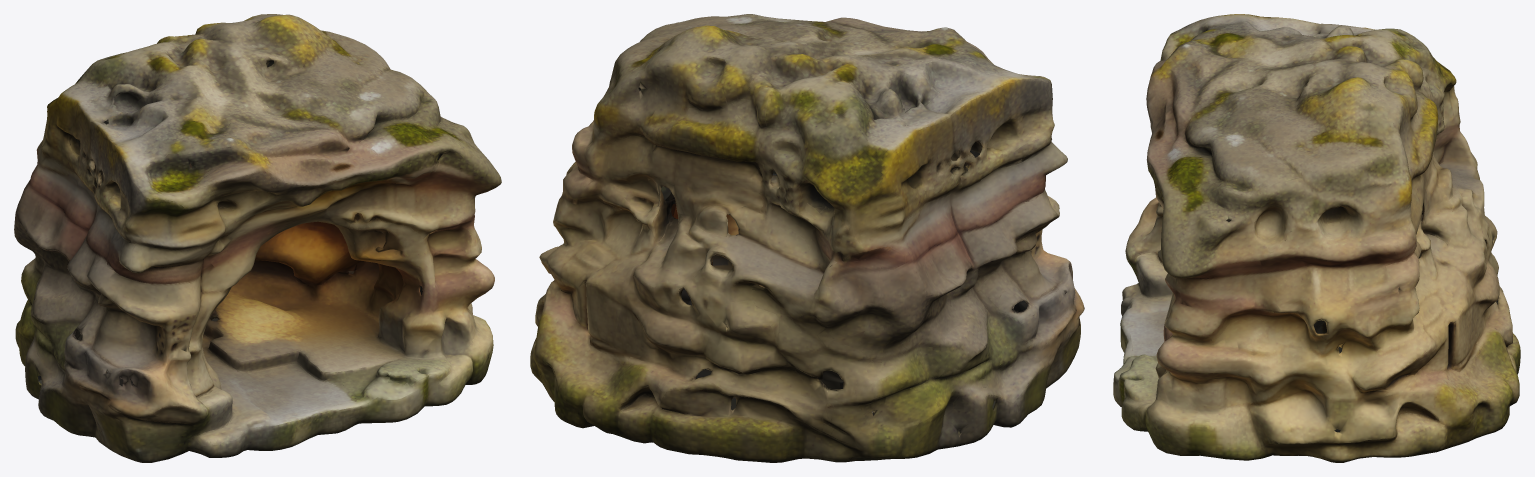
The picture shows the model from 3 angles, left to right: view 1: azimuth 30°, elevation 25°; view 2: azimuth 150°, elevation 25°; view 3: azimuth 270°, elevation 25°; orthographic projection. The views are drawn at different scales.
Visible parts, largest first — view 1: world; view 2: world; view 3: world.
Part boxes in pixels (box(x1,y1,x2,y2)): world: box(14, 14, 501, 462); world: box(530, 14, 1084, 462); world: box(1113, 14, 1520, 462).
Size of the model in its own units: 3.8 by 2.92 by 3.33.
1 material, 1 textured.
